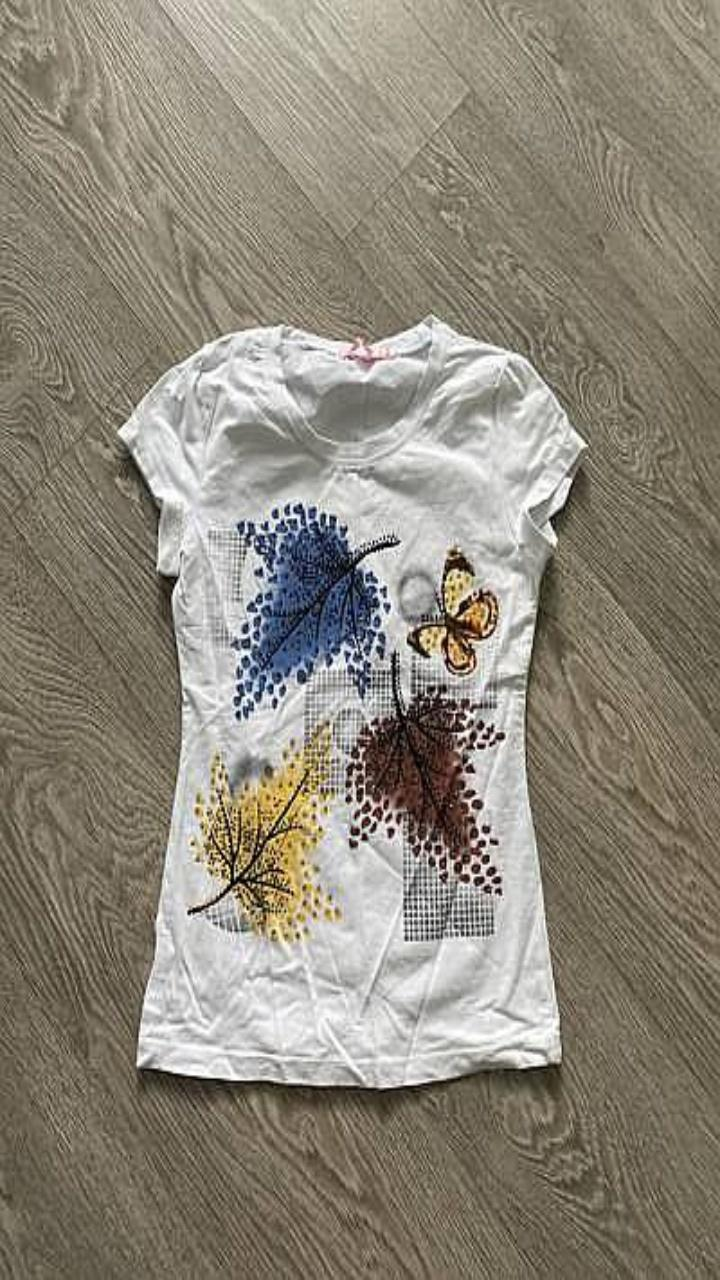T-Shirt: (119, 315, 586, 1087)
